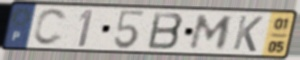1: (77, 9, 94, 49)
5: (112, 9, 147, 51)
B: (145, 11, 186, 51)
C: (30, 7, 68, 48)
K: (231, 14, 265, 54)
M: (186, 13, 235, 51)
